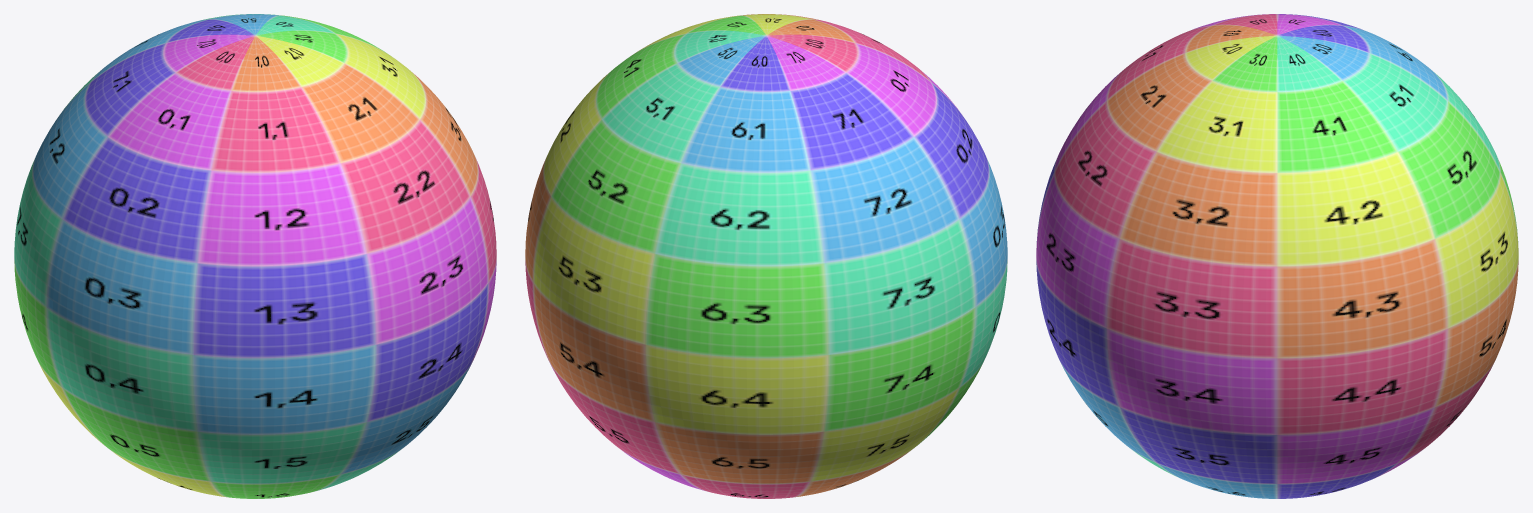
Rendered from StageSelectCube.obj.
3 renders of one model, left to right at view 1: azimuth 30°, elevation 25°; view 2: azimuth 150°, elevation 25°; view 3: azimuth 270°, elevation 25°, orthographic.
Visible parts, largest first — view 1: 球; view 2: 球; view 3: 球.
Boxes of the visible parts, x1,y1,x2,y2 form: 球: [14, 14, 496, 498]; 球: [525, 14, 1007, 498]; 球: [1036, 14, 1518, 498].
Bounding box in the file's own units: 987 × 998 × 987.
